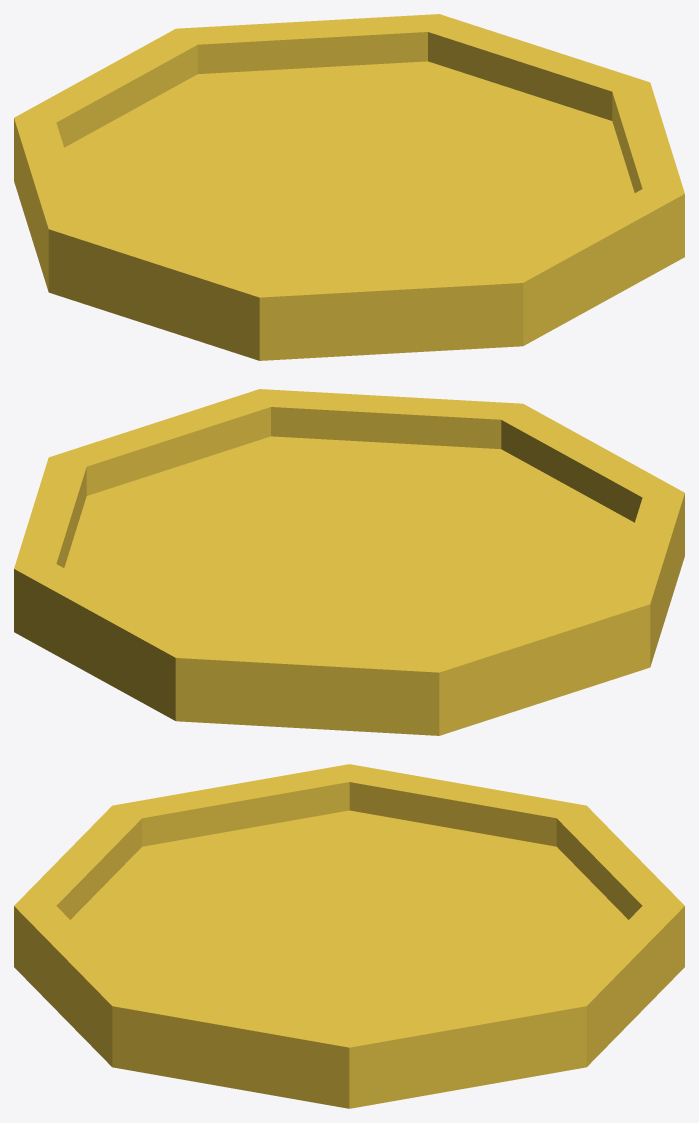
File: Gold Coin.fbx
The picture shows the model from 3 angles, top to bottom: view 1: azimuth 30°, elevation 25°; view 2: azimuth 150°, elevation 25°; view 3: azimuth 270°, elevation 25°; orthographic projection. The views are drawn at different scales.
Parts seen in each view (by area): view 1: Cylinder.029; view 2: Cylinder.029; view 3: Cylinder.029.
Part boxes in pixels (x1,y1,x2,y2): Cylinder.029: (14, 14, 684, 360); Cylinder.029: (14, 389, 684, 735); Cylinder.029: (14, 764, 684, 1108).
Bounding box in the file's own units: 6.47 × 0.6509 × 6.47.
